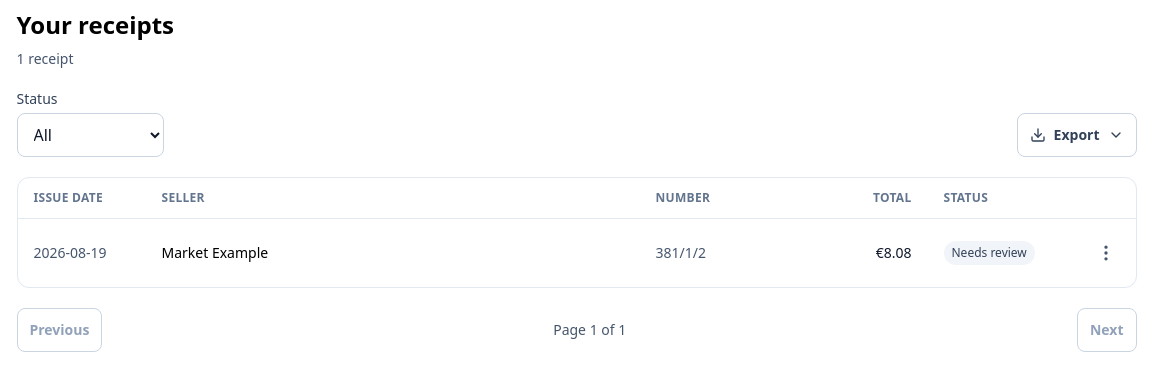
Test: HistoryPage › offers no download for a receipt that is not confirmed
Click the button named "Actions for Market Example".
click(1106, 253)  # box 1084,231 -> 1128,275
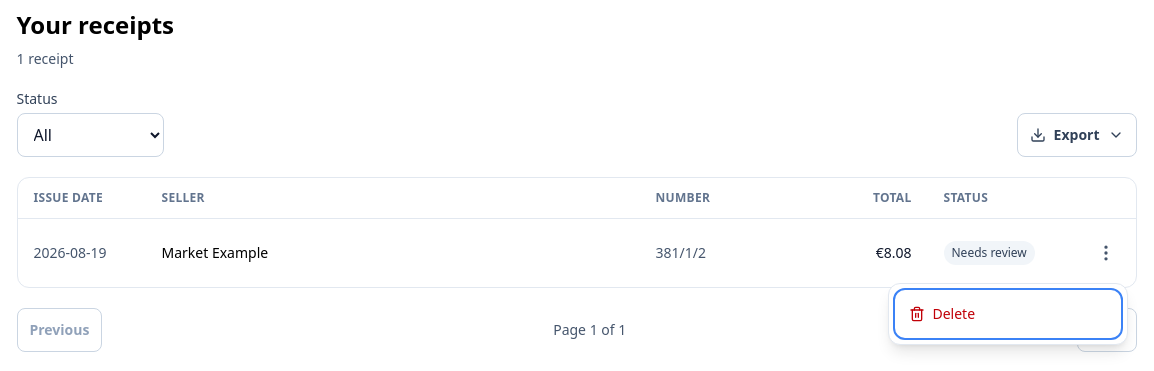
expect the button "Delete" is shown: met, box 896,292 -> 1118,336
